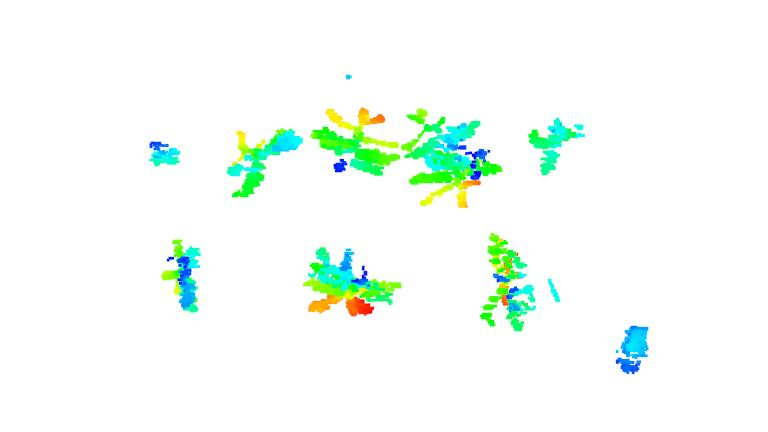chickpea: (401, 107, 507, 209), (301, 243, 403, 318), (308, 102, 401, 180), (476, 230, 541, 335), (220, 121, 305, 201), (156, 235, 216, 317), (526, 113, 587, 178), (140, 135, 186, 171)
